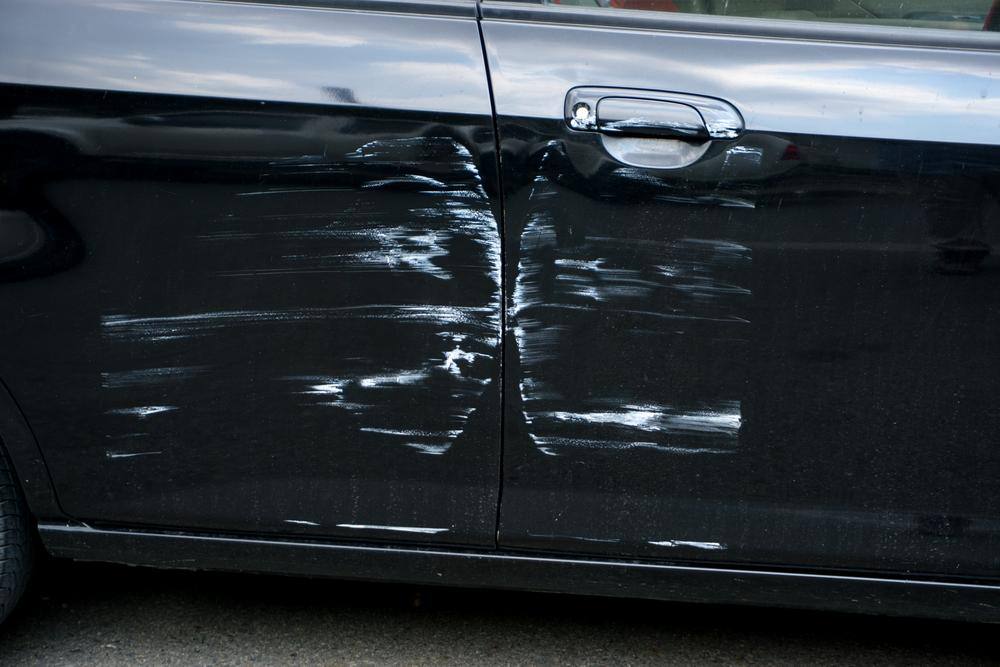scratch: (86, 132, 506, 475), (509, 137, 767, 464), (282, 517, 453, 534), (639, 537, 728, 553)
